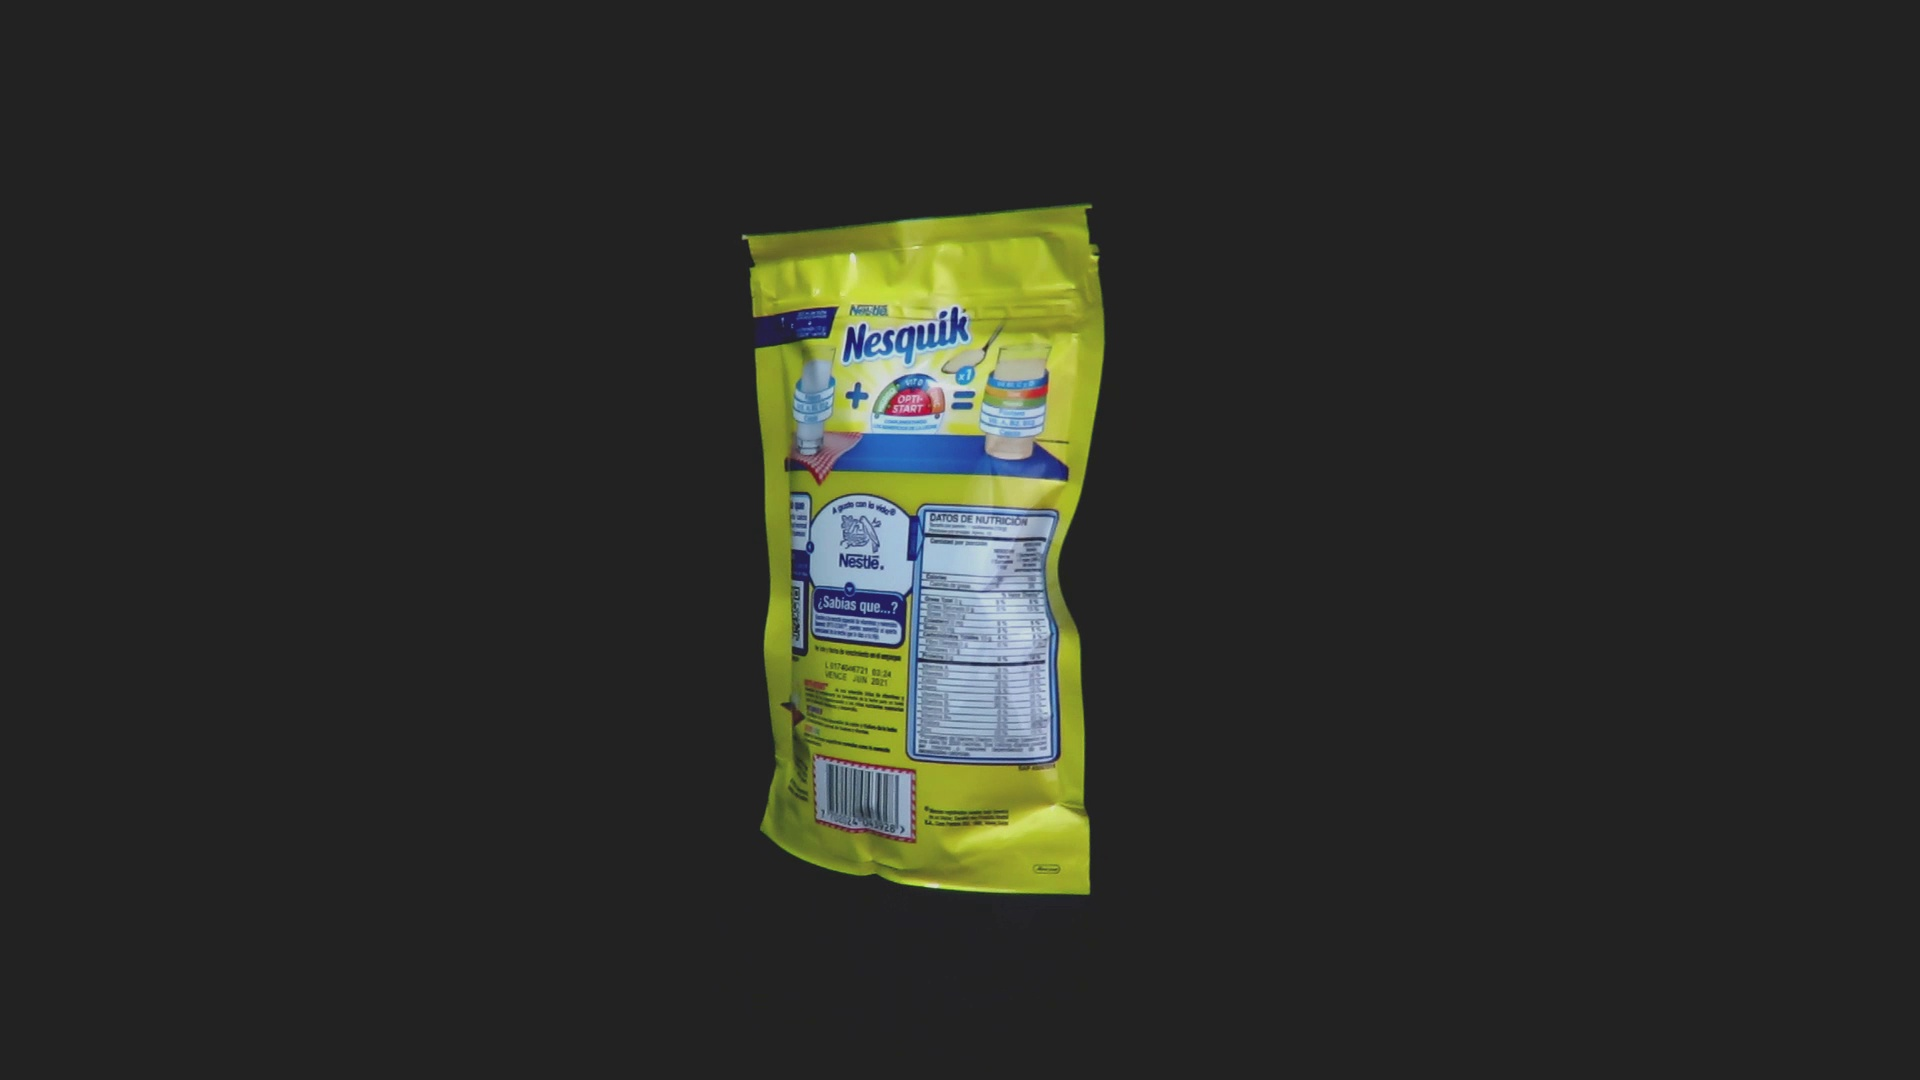COL0170306DYP20000: (737, 199, 1112, 901)
